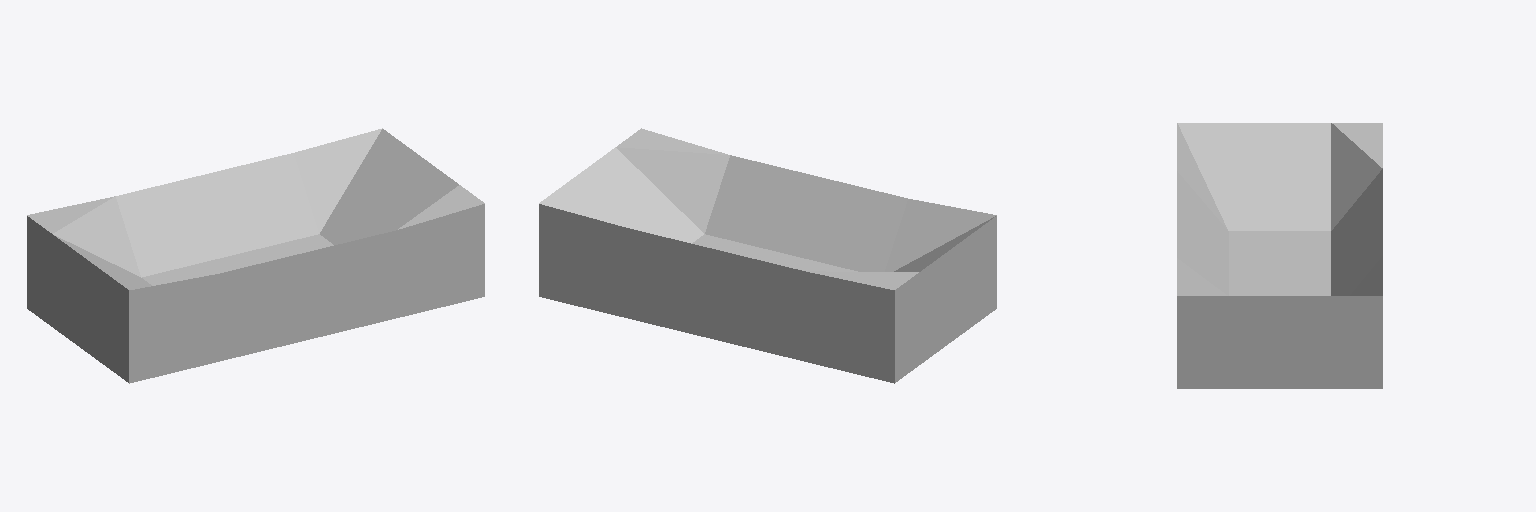
File: bathtub.obj
3 renders of one model, left to right at view 1: azimuth 30°, elevation 25°; view 2: azimuth 150°, elevation 25°; view 3: azimuth 270°, elevation 25°, orthographic.
Visible parts, largest first — view 1: Cube; view 2: Cube; view 3: Cube.
Boxes of the visible parts, box(x1,y1,x2,y2) form: Cube: box(27, 128, 484, 383); Cube: box(539, 128, 996, 383); Cube: box(1177, 123, 1382, 388).
Size of the model in its own units: 8 by 2 by 4.